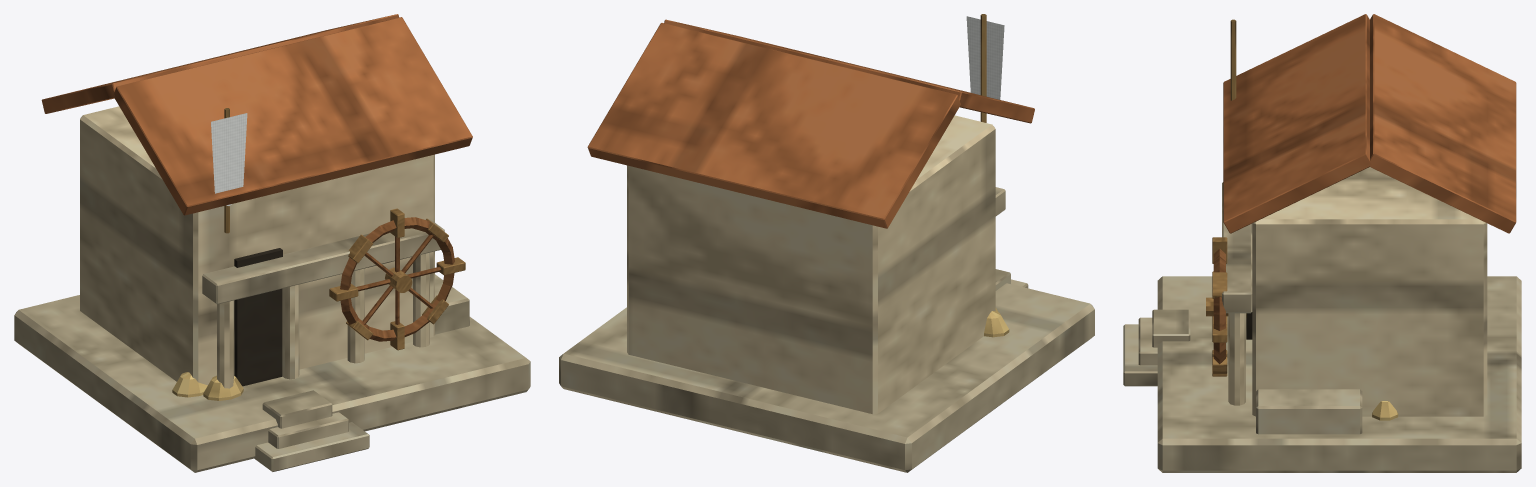
The model's file is edificio-farm-e1-DVMuhHkt.glb.
The picture shows the model from 3 angles, left to right: view 1: azimuth 30°, elevation 25°; view 2: azimuth 150°, elevation 25°; view 3: azimuth 270°, elevation 25°; orthographic projection. The views are drawn at different scales.
Parts seen in each view (by area): view 1: molino_e1_envolvente, rotor_molino, molino_e1_team_color; view 2: molino_e1_envolvente, molino_e1_team_color; view 3: molino_e1_envolvente, rotor_molino.
Part boxes in pixels (left/top/right/bottom): molino_e1_envolvente: left=14, top=14, right=530, bottom=472; rotor_molino: left=329, top=208, right=465, bottom=350; molino_e1_team_color: left=211, top=113, right=247, bottom=205; molino_e1_envolvente: left=559, top=14, right=1094, bottom=472; molino_e1_team_color: left=966, top=16, right=1004, bottom=99; molino_e1_envolvente: left=1123, top=14, right=1521, bottom=472; rotor_molino: left=1206, top=237, right=1228, bottom=376.
Bounding box in the file's own units: 52 × 47 × 52.5.
3 materials, 3 textured.
